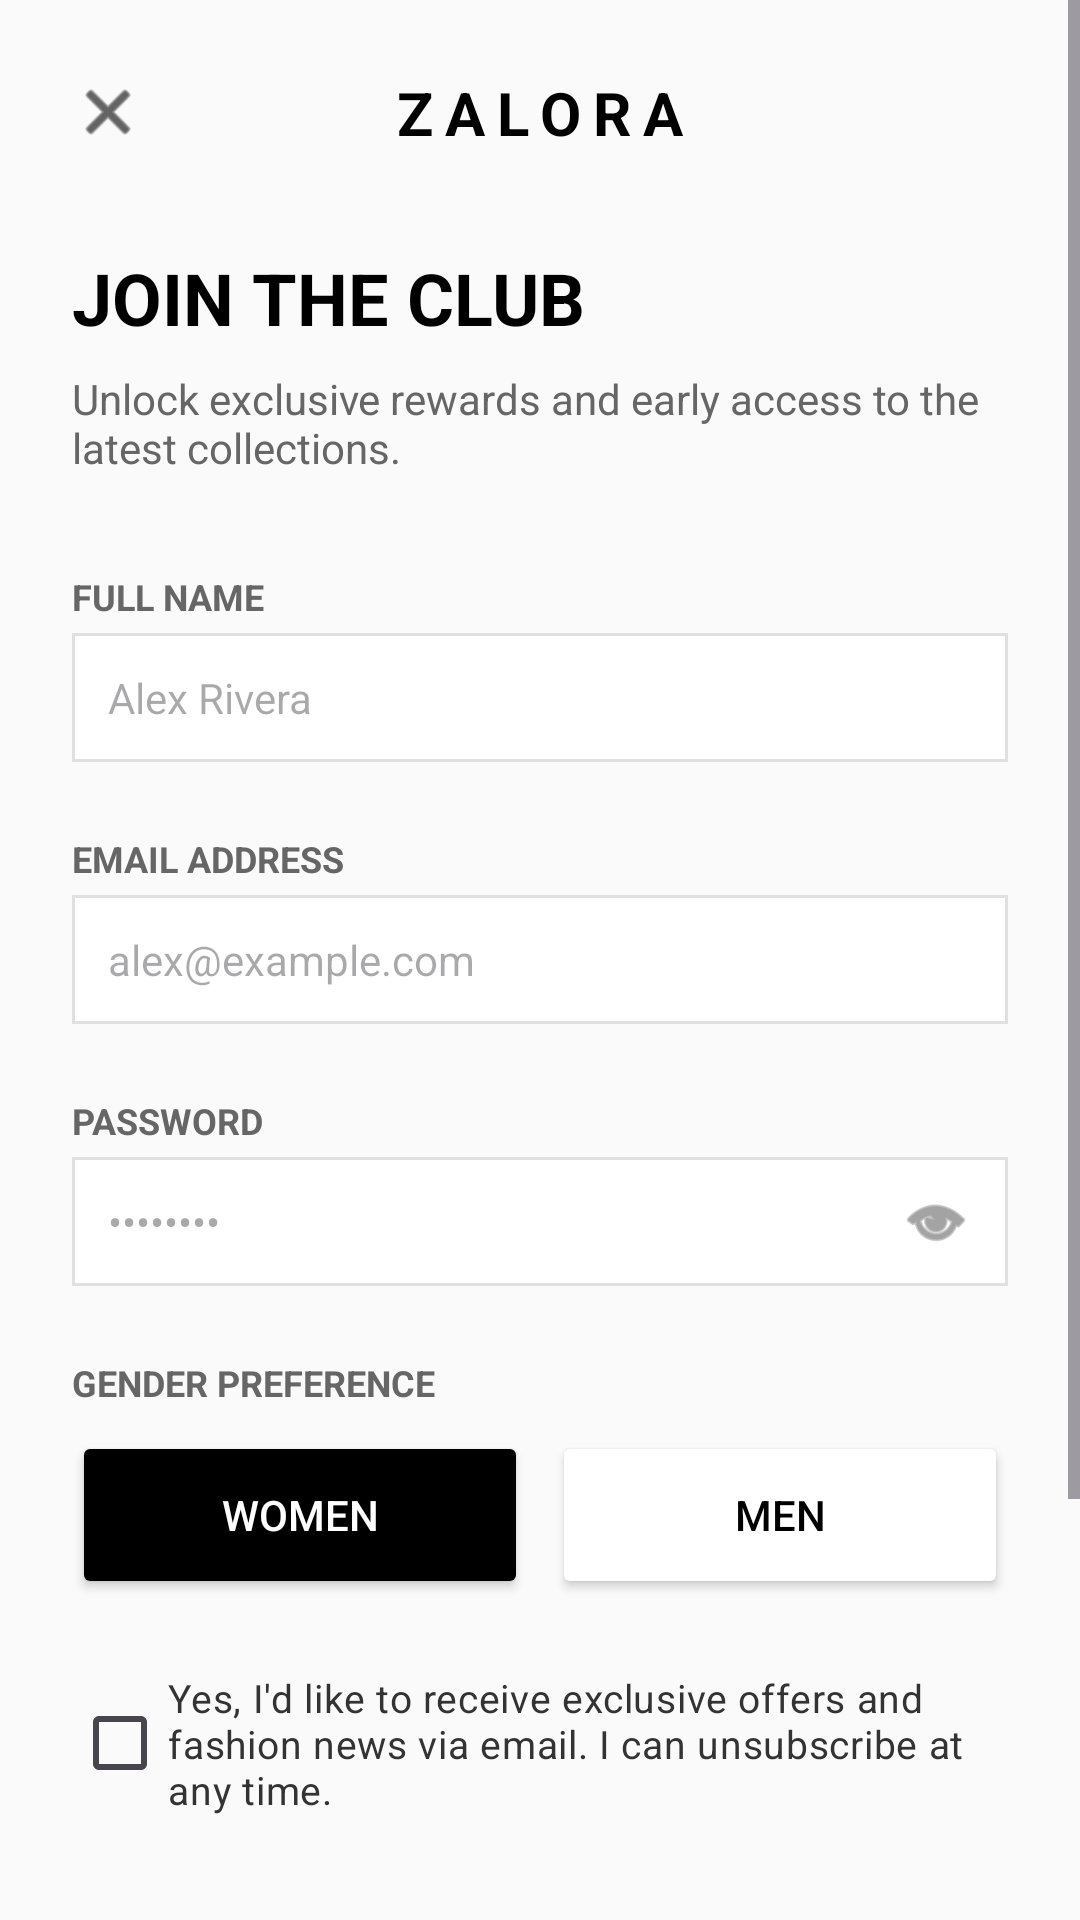

Icons on this 1080x1920 Android screen, each with the point to tap as [x,y]:
Close: [108,112]
view: [936,1223]
